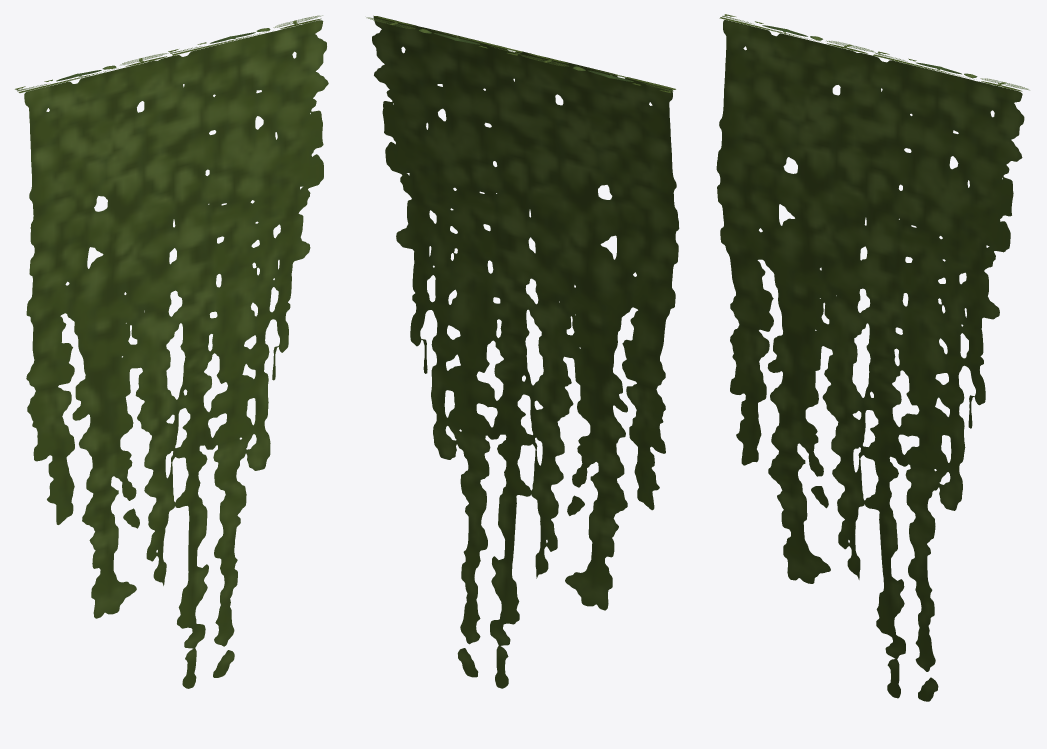
Rendered from Vines.fbx.
3 renders of one model, left to right at view 1: azimuth 30°, elevation 25°; view 2: azimuth 150°, elevation 25°; view 3: azimuth 330°, elevation 25°, orthographic.
Parts seen in each view (by area): view 1: SM_VineFull; view 2: SM_VineFull; view 3: SM_VineFull.
Boxes of the visible parts, x1,y1,x2,y2 form: SM_VineFull: (15, 15, 328, 688); SM_VineFull: (366, 15, 679, 688); SM_VineFull: (716, 14, 1029, 701).
Size of the model in its own units: 2 by 4 by 0.1453.
